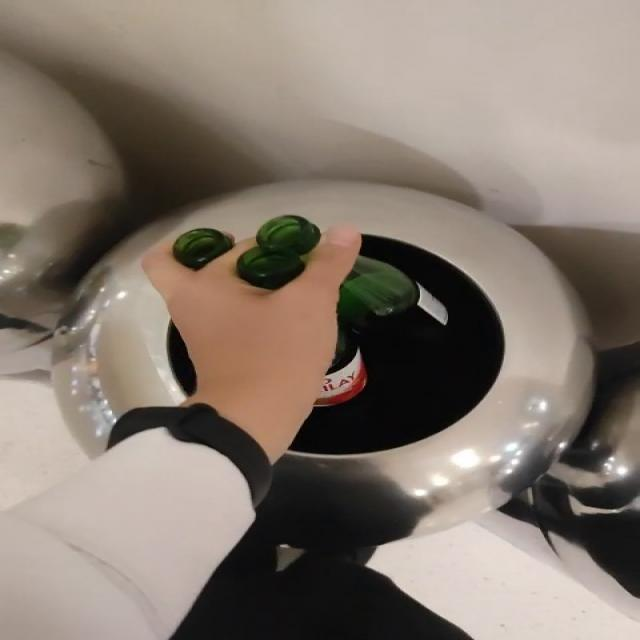Glass: (315, 256, 449, 407), (237, 215, 321, 289), (172, 228, 233, 269)
